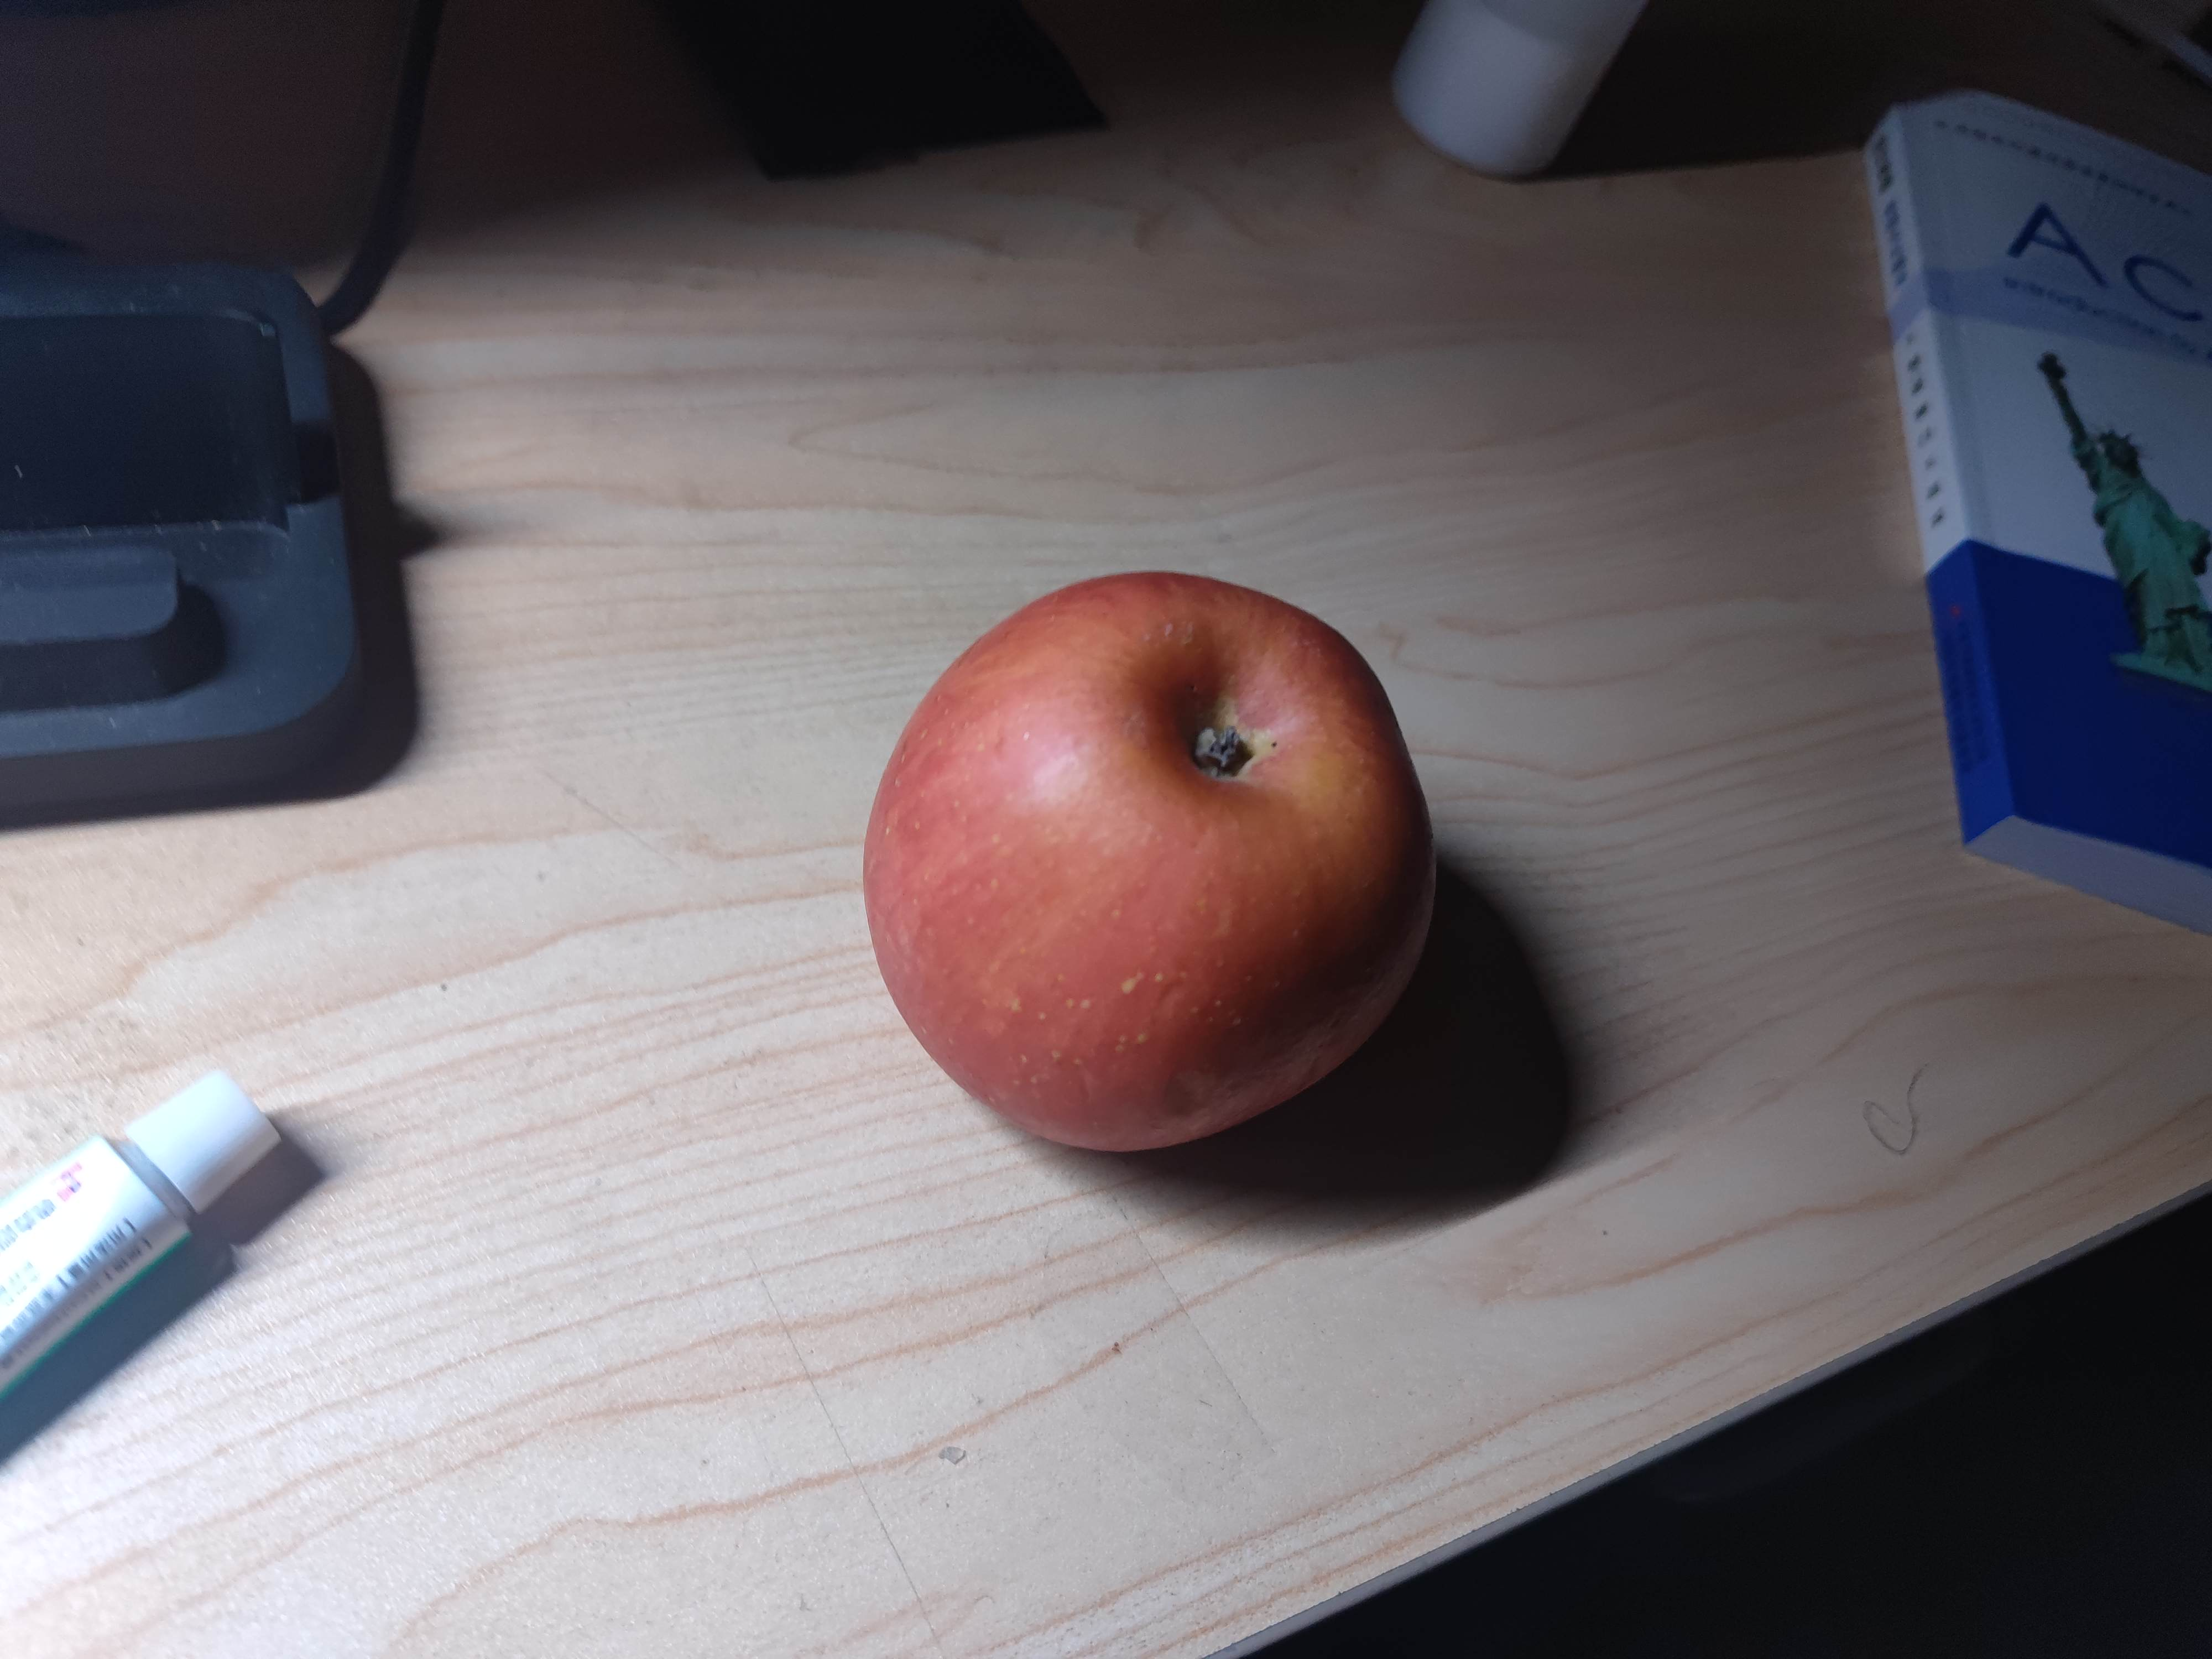apple: (862, 570, 1439, 1157)
